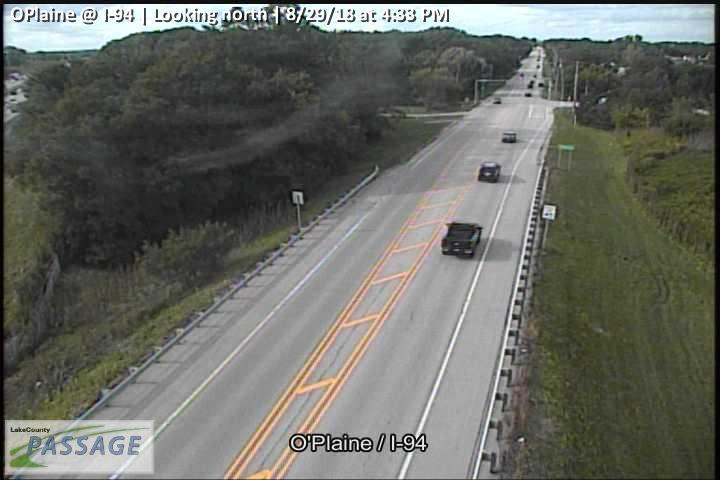SUV: (478, 162, 501, 182), (502, 132, 516, 143), (494, 97, 501, 104)
Truck: (442, 221, 483, 258)
